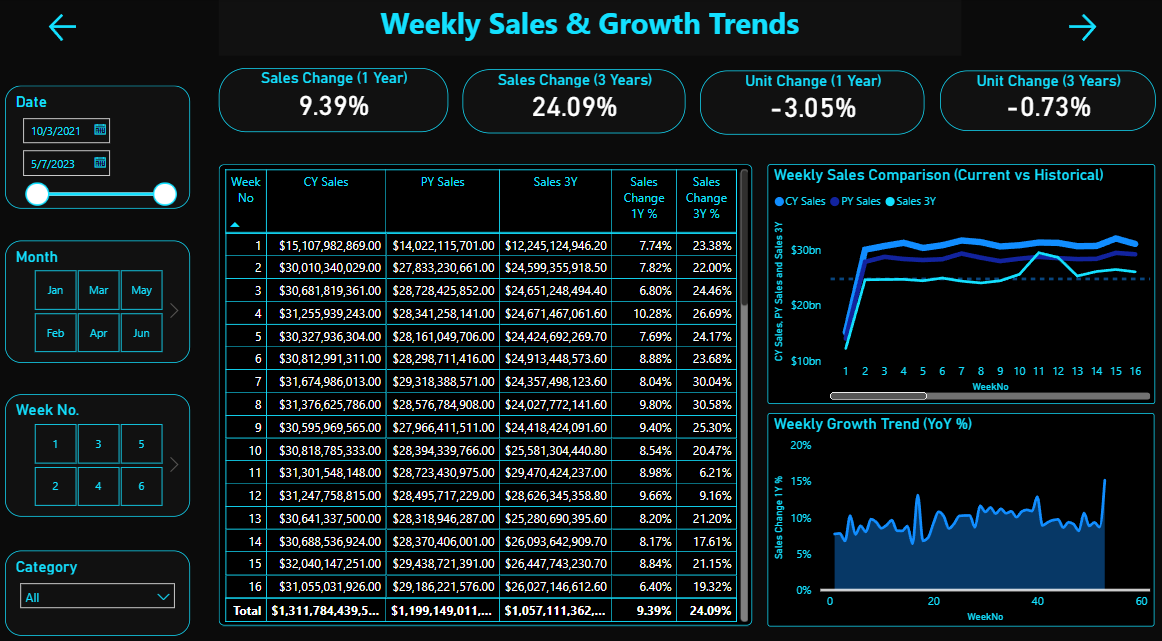

Layout of this report page (visuals, bound fields, positions):
{"tool":"powerbi","page":{"name":"Weekly Trends","canvas":[1280,720],"ordinal":3},"visuals":[{"type":"card","title":"Unit Change (3 Years)","fields":{"Values":["clean_data.Unit Change 3Y %"]},"box":[1031.7,79.6,236.7,66.7],"z":0},{"type":"tableEx","title":"Current Year Units by Category","fields":{"Values":["clean_data.WeekNo","clean_data.CY Sales","clean_data.PY Sales","clean_data.Sales 3Y","clean_data.Sales Change 1Y %","clean_data.Sales Change 3Y %"]},"box":[240.1,182.5,585.9,506.3],"z":1000},{"type":"slicer","title":"Date","fields":{"Values":["clean_data.Date"]},"box":[5.6,95.6,203.3,135.6],"z":2000},{"type":"card","title":"Sales Change (1 Year)","fields":{"Values":["clean_data.Sales Change 1Y %"]},"box":[240,77.4,251.7,70],"z":3000},{"type":"card","title":"Sales Change (3 Years)","fields":{"Values":["clean_data.Sales Change 3Y %"]},"box":[507.8,78.5,245,70],"z":4000},{"type":"card","title":"Unit Change (1 Year)","fields":{"Values":["clean_data.Unit Change 1Y %"]},"box":[768.9,79.6,246.7,70],"z":5000},{"type":"textbox","box":[240,0,815,63.3],"z":6000},{"type":"slicer","title":"Month","fields":{"Values":["clean_data.Month"]},"box":[5.6,265.6,203.3,134.4],"z":7000},{"type":"slicer","title":"Week No.","fields":{"Values":["clean_data.WeekNo"]},"box":[5.6,434.4,203.3,134.4],"z":8000},{"type":"slicer","title":"Category","fields":{"Values":["clean_data.Category"]},"box":[5,606.7,203.3,93.3],"z":9000},{"type":"actionButton","box":[50,11.7,78.3,40],"z":10000},{"type":"actionButton","box":[1168.3,11.7,100,40],"z":11000},{"type":"lineChart","title":"Weekly Sales Comparison (Current vs Historical)","fields":{"Y":["clean_data.CY Sales","clean_data.PY Sales","clean_data.Sales 3Y"],"Category":["clean_data.WeekNo"]},"box":[842.5,182.5,425.4,263.5],"z":12000},{"type":"areaChart","title":"Weekly Growth Trend (YoY %)","fields":{"Y":["clean_data.Sales Change 1Y %"],"Category":["clean_data.WeekNo"]},"box":[843,455,425,234],"z":13000}]}

Visuals, with their boxes in screenshot pixels (x1, y1, x2, y2), scaled from the page's 1280x720 canvas onto the 1162x641 screenshot:
"Unit Change (3 Years)" card: [x1=937, y1=71, x2=1151, y2=130]
"Current Year Units by Category" tableEx: [x1=218, y1=162, x2=750, y2=613]
"Date" slicer: [x1=5, y1=85, x2=190, y2=206]
"Sales Change (1 Year)" card: [x1=218, y1=69, x2=446, y2=131]
"Sales Change (3 Years)" card: [x1=461, y1=70, x2=683, y2=132]
"Unit Change (1 Year)" card: [x1=698, y1=71, x2=922, y2=133]
textbox: [x1=218, y1=0, x2=958, y2=56]
"Month" slicer: [x1=5, y1=236, x2=190, y2=356]
"Week No." slicer: [x1=5, y1=387, x2=190, y2=506]
"Category" slicer: [x1=5, y1=540, x2=189, y2=623]
actionButton: [x1=45, y1=10, x2=116, y2=46]
actionButton: [x1=1061, y1=10, x2=1151, y2=46]
"Weekly Sales Comparison (Current vs Historical)" lineChart: [x1=765, y1=162, x2=1151, y2=397]
"Weekly Growth Trend (YoY %)" areaChart: [x1=765, y1=405, x2=1151, y2=613]
